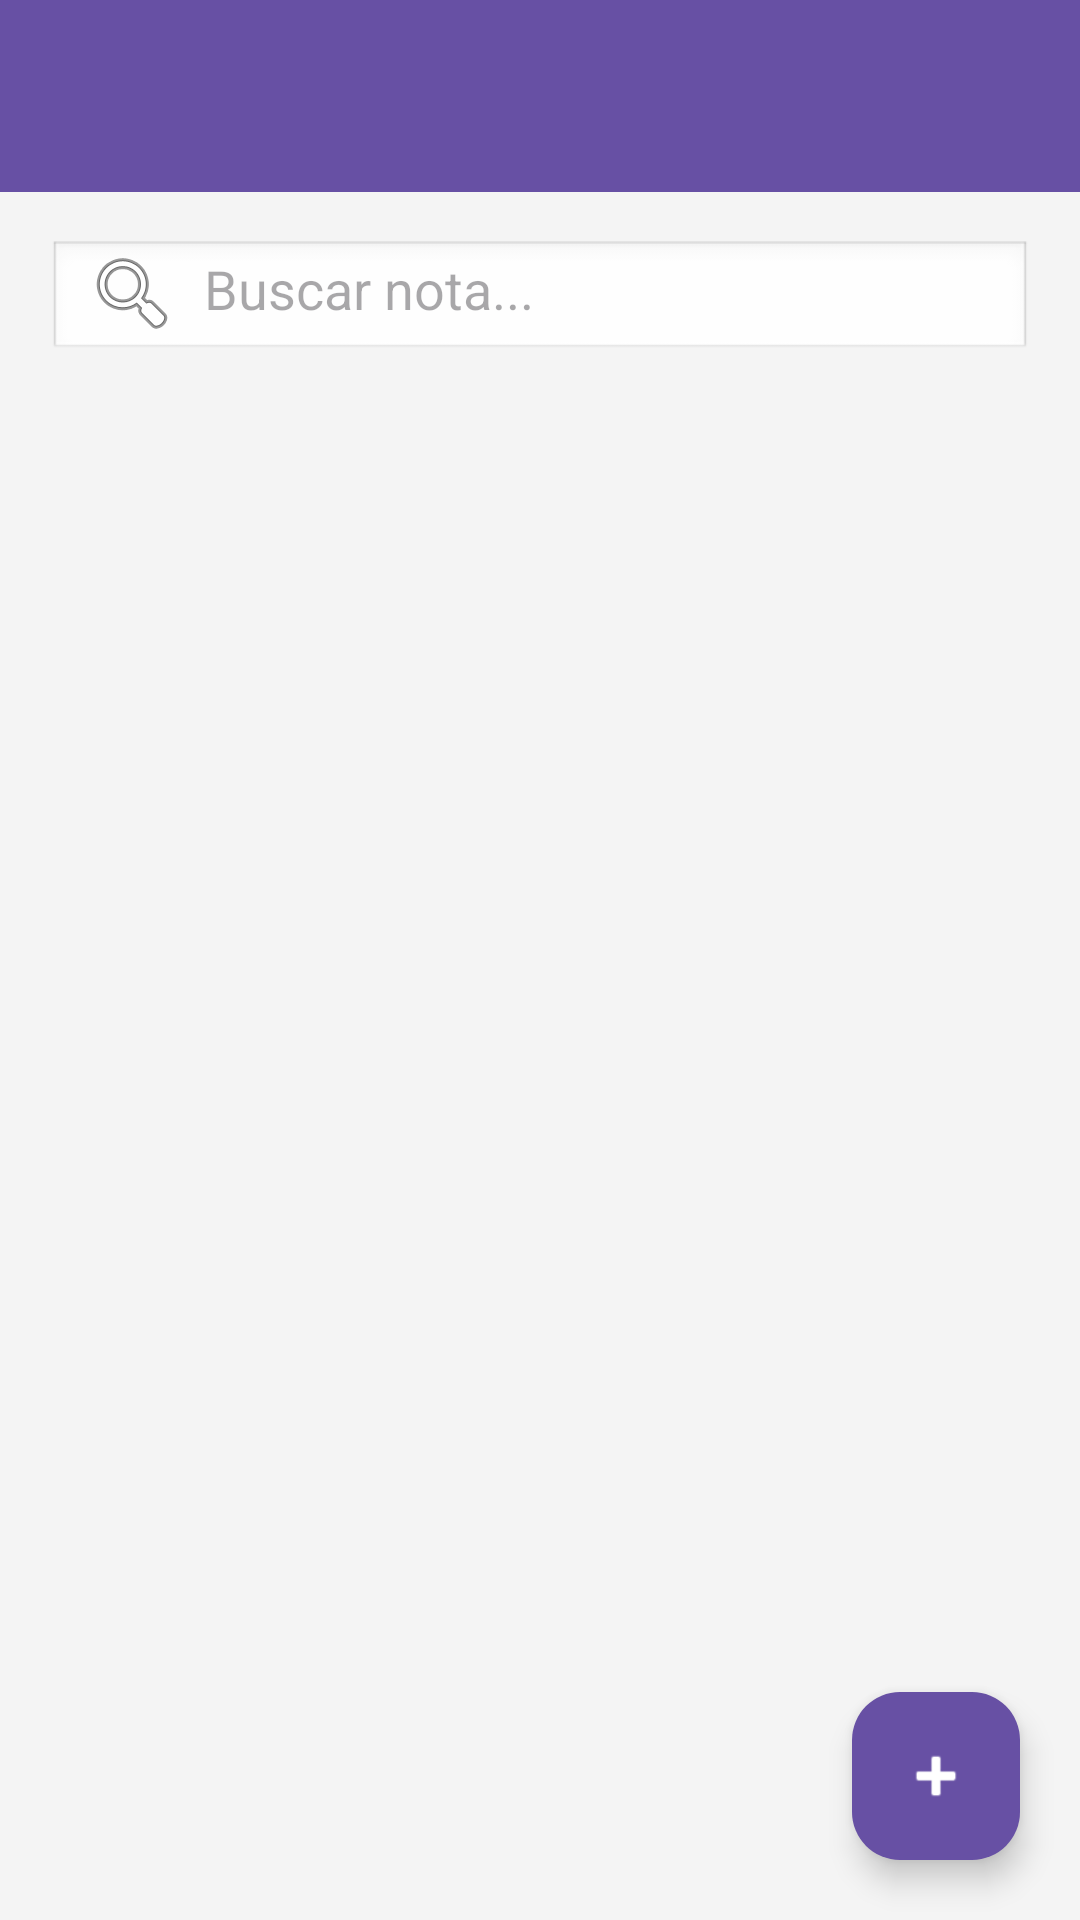

Named icons in this screenshot (1080 × 1920) and their centers, [x,y]:
Agregar nota: [936,1776]
